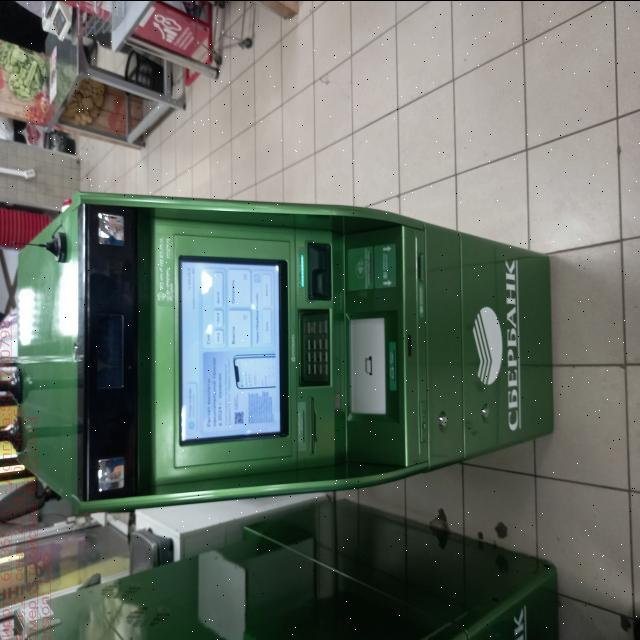bank: (22, 192, 544, 507)
